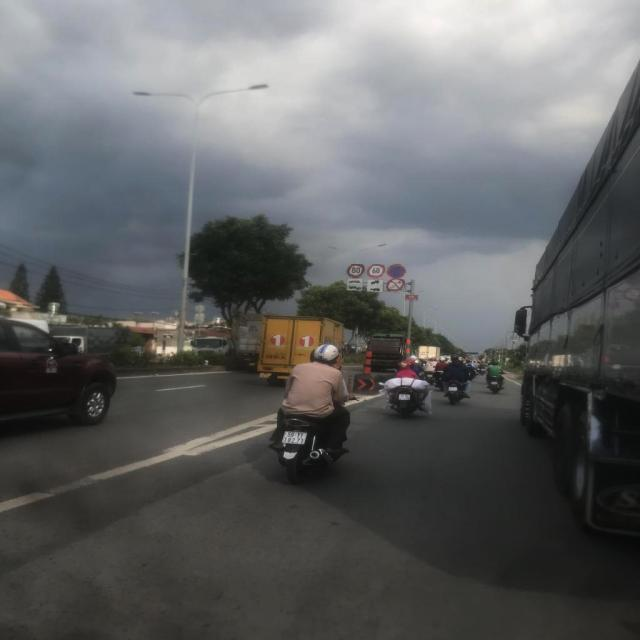127-toc-do-toi-da-60: (367, 264, 385, 278)
127-toc-do-toi-da-80: (346, 262, 366, 278)
